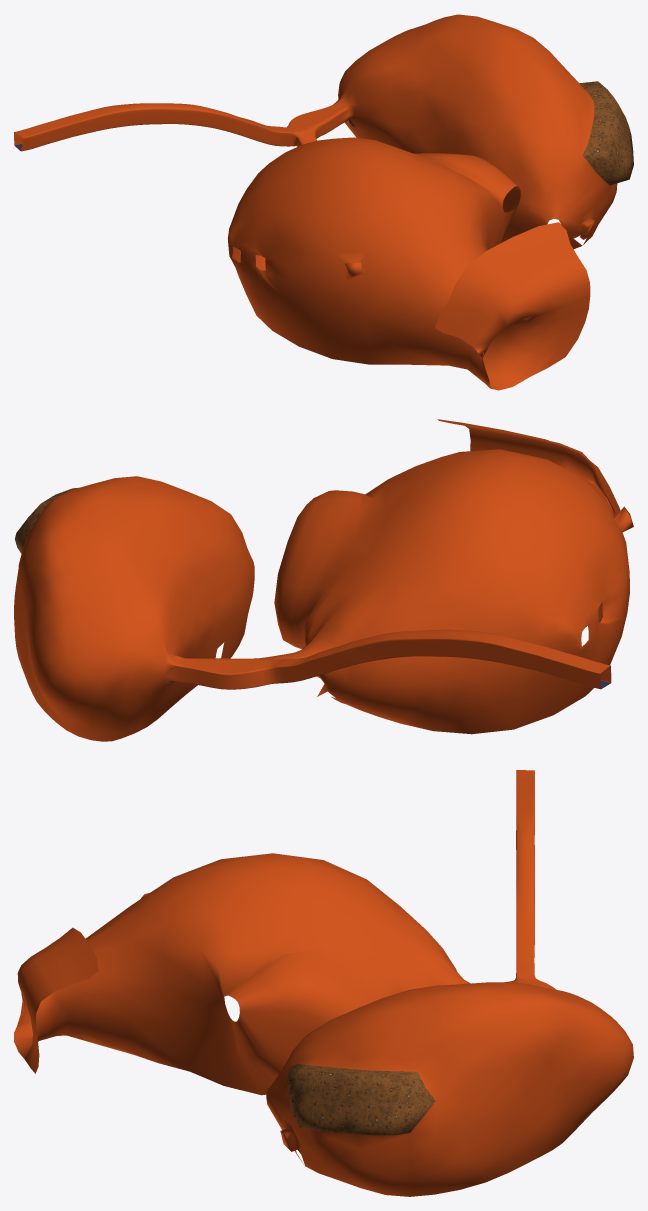
File: HugePart1.fbx
The picture shows the model from 3 angles, top to bottom: view 1: azimuth 30°, elevation 25°; view 2: azimuth 150°, elevation 25°; view 3: azimuth 270°, elevation 25°; orthographic projection. The views are drawn at different scales.
Parts seen in each view (by area): view 1: HugePart1; view 2: HugePart1; view 3: HugePart1.
Part boxes in pixels (x1=…): HugePart1: x1=14, y1=14, x2=633, y2=390; HugePart1: x1=14, y1=419, x2=633, y2=741; HugePart1: x1=14, y1=770, x2=633, y2=1196.
Size of the model in its own units: 13981 by 4248 by 12895.
